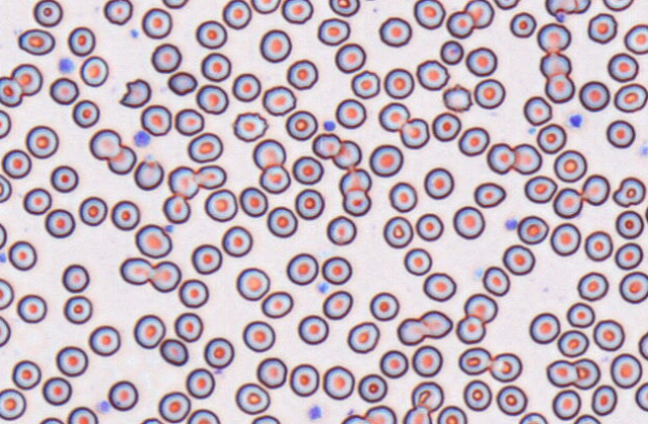PLT: (56, 56, 77, 76), (130, 131, 152, 150), (306, 404, 325, 422), (567, 113, 586, 128), (96, 400, 112, 415), (505, 216, 519, 231), (317, 281, 331, 295), (322, 117, 336, 130), (637, 142, 648, 158), (164, 222, 175, 235), (129, 28, 139, 40), (0, 251, 7, 265)
RBC: (134, 223, 172, 258), (369, 143, 403, 177), (235, 267, 270, 300), (234, 382, 270, 414), (553, 149, 587, 182), (204, 188, 237, 222), (322, 365, 354, 400), (610, 353, 642, 388), (133, 314, 165, 349), (232, 111, 268, 142), (187, 132, 223, 163), (25, 125, 58, 158), (167, 165, 199, 199), (252, 138, 286, 170), (259, 28, 291, 62), (452, 205, 484, 239), (410, 380, 443, 412), (158, 391, 191, 423), (346, 321, 379, 353), (242, 320, 275, 352), (286, 252, 318, 285), (537, 22, 571, 53), (550, 222, 581, 256), (378, 16, 412, 47), (17, 28, 55, 55), (149, 260, 181, 292), (89, 128, 121, 160), (10, 63, 42, 95), (88, 324, 120, 356), (286, 58, 318, 90), (592, 319, 624, 351), (133, 157, 164, 190), (416, 59, 449, 90), (502, 244, 535, 275), (382, 215, 413, 248), (55, 345, 88, 376), (612, 176, 645, 207), (423, 166, 454, 199), (195, 83, 228, 114), (463, 293, 497, 323), (422, 271, 456, 301), (262, 85, 296, 115), (613, 82, 647, 112), (378, 101, 410, 132), (411, 345, 442, 377), (529, 312, 560, 344), (334, 42, 366, 73), (285, 109, 317, 140), (221, 225, 252, 257), (266, 206, 297, 238), (140, 104, 171, 136), (203, 336, 234, 368), (383, 67, 414, 99), (473, 78, 505, 109), (578, 80, 610, 111), (141, 7, 172, 39), (489, 352, 522, 382), (289, 363, 319, 396), (259, 163, 290, 194), (496, 384, 527, 415), (256, 357, 287, 388), (191, 243, 222, 274), (107, 380, 138, 411), (150, 42, 181, 73), (399, 117, 429, 149), (462, 379, 492, 411), (185, 367, 215, 399), (587, 12, 617, 44), (607, 52, 639, 82), (195, 19, 227, 49), (465, 46, 497, 76), (119, 256, 152, 285), (458, 346, 491, 375), (524, 174, 557, 203), (106, 144, 136, 175), (512, 143, 542, 174), (551, 389, 581, 420), (552, 187, 582, 218), (178, 278, 209, 308), (536, 123, 566, 154), (44, 208, 75, 238), (294, 188, 324, 219), (335, 98, 366, 128), (110, 199, 140, 230), (297, 314, 328, 344), (458, 126, 489, 156), (577, 271, 608, 301), (16, 293, 47, 323), (200, 52, 231, 82), (486, 142, 515, 174), (581, 173, 610, 205), (413, 0, 445, 29), (79, 55, 108, 87), (419, 310, 452, 338), (317, 17, 350, 45), (455, 314, 485, 344), (544, 73, 574, 103), (331, 139, 361, 169), (326, 215, 356, 245), (1, 148, 31, 178), (350, 69, 380, 99), (11, 359, 41, 389), (431, 111, 461, 141), (173, 312, 203, 342), (369, 291, 399, 321), (7, 240, 37, 270), (231, 72, 261, 102), (517, 215, 548, 244), (292, 155, 323, 184), (41, 376, 72, 405), (239, 186, 268, 217), (388, 181, 417, 212), (321, 255, 352, 284), (584, 230, 613, 261), (339, 167, 371, 195), (557, 329, 589, 357), (619, 271, 647, 303), (261, 290, 293, 318), (442, 83, 472, 112), (357, 373, 387, 402), (523, 95, 552, 125), (49, 76, 79, 105), (615, 209, 644, 239), (322, 290, 352, 319), (78, 196, 107, 226), (572, 358, 600, 389), (546, 359, 577, 387), (463, 0, 494, 28), (482, 265, 510, 296), (539, 51, 571, 78), (473, 181, 505, 208), (379, 349, 408, 378), (606, 119, 635, 148), (222, 0, 251, 29), (63, 295, 92, 324), (396, 317, 426, 345), (67, 26, 95, 56), (32, 0, 63, 27), (0, 388, 26, 420), (591, 384, 617, 416), (162, 194, 190, 223), (403, 247, 432, 275), (159, 338, 188, 366), (614, 242, 643, 270), (50, 164, 78, 193), (61, 263, 89, 292), (415, 212, 443, 241), (71, 99, 99, 128), (311, 132, 341, 159), (174, 108, 204, 135), (446, 10, 474, 38), (342, 189, 371, 216), (566, 301, 595, 328), (22, 187, 51, 214), (195, 164, 226, 189), (281, 0, 313, 24), (103, 0, 133, 25), (0, 75, 23, 107), (509, 11, 536, 38), (545, 0, 590, 16), (624, 23, 647, 54), (439, 39, 463, 65), (364, 405, 396, 423), (436, 405, 467, 423), (186, 408, 220, 424), (402, 405, 432, 423), (67, 406, 98, 423), (328, 0, 359, 16), (0, 277, 14, 309), (250, 0, 280, 14), (0, 173, 12, 203), (635, 381, 647, 411), (602, 0, 634, 11), (518, 411, 547, 423), (0, 315, 10, 347), (0, 109, 11, 138), (340, 413, 370, 423), (573, 413, 600, 423), (250, 414, 280, 423), (638, 331, 647, 360), (494, 0, 519, 10), (162, 0, 188, 9), (0, 222, 7, 249), (38, 416, 64, 423), (139, 417, 163, 424), (644, 203, 648, 223)
Schistocyte: (118, 76, 150, 108), (167, 71, 197, 96)
